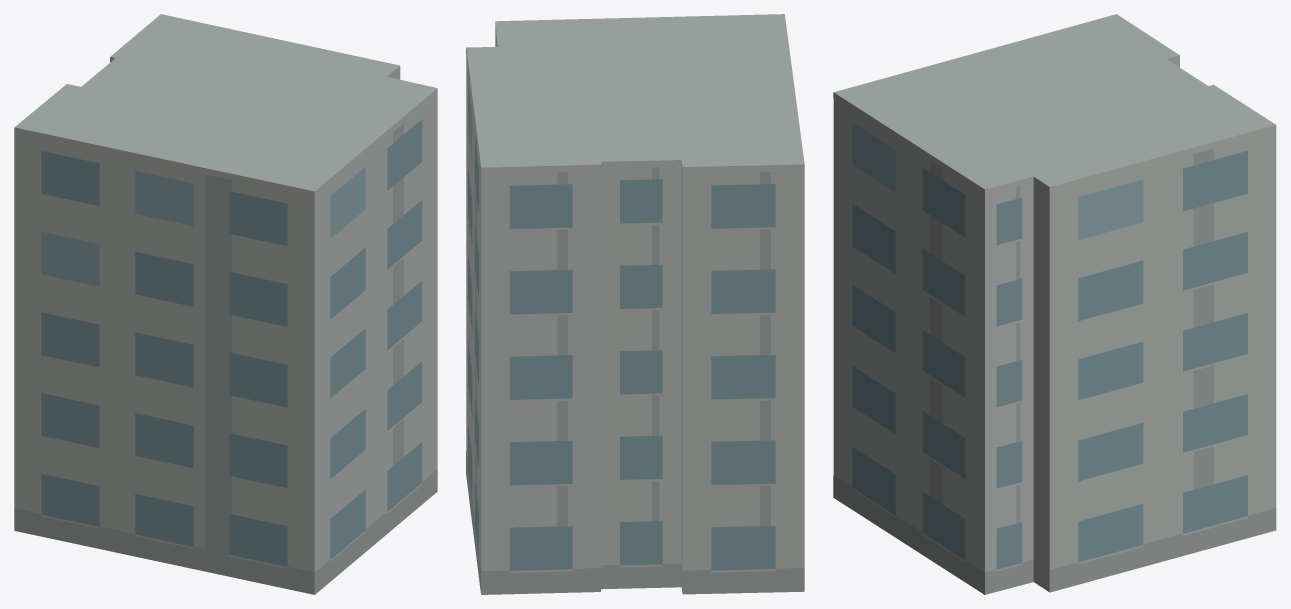
The model's file is survey-upis-32861904.glb.
3 renders of one model, left to right at view 1: azimuth 30°, elevation 25°; view 2: azimuth 150°, elevation 25°; view 3: azimuth 270°, elevation 25°, orthographic. The views are drawn at different scales.
Visible parts, largest first — view 1: survey-upis-32861904.tmp; view 2: survey-upis-32861904.tmp; view 3: survey-upis-32861904.tmp.
Part boxes in pixels (x1,y1,x2,y2): survey-upis-32861904.tmp: (14, 14, 437, 594); survey-upis-32861904.tmp: (466, 14, 804, 594); survey-upis-32861904.tmp: (833, 14, 1276, 594).
Size of the model in its own units: 14.11 by 15.2 by 15.05.
